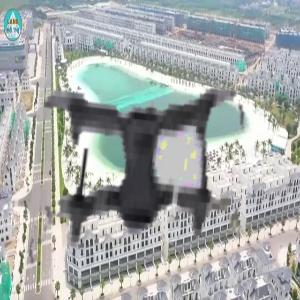drone: (9, 39, 268, 298)
